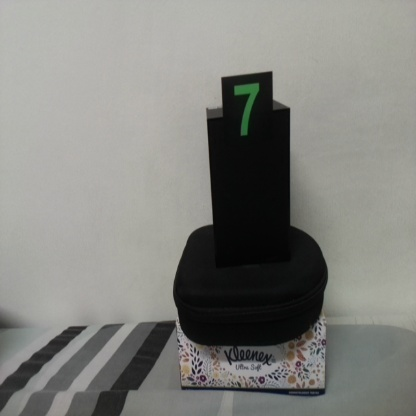id_7: (222, 78, 274, 156)
